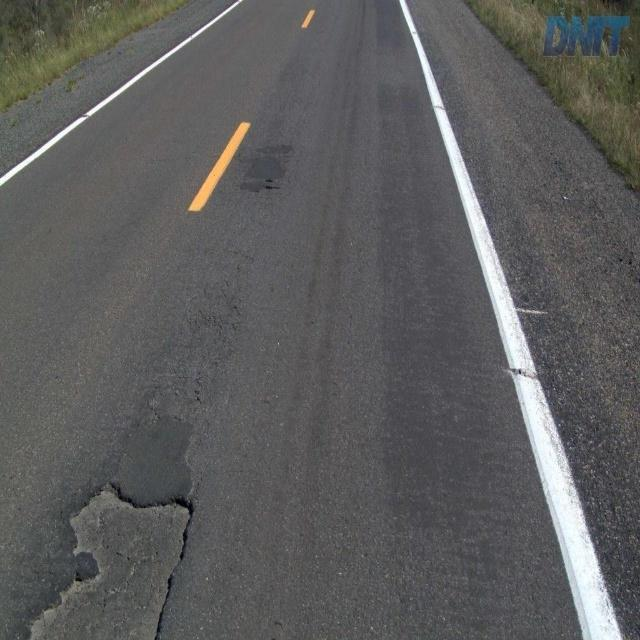pothole: (24, 479, 197, 639)
